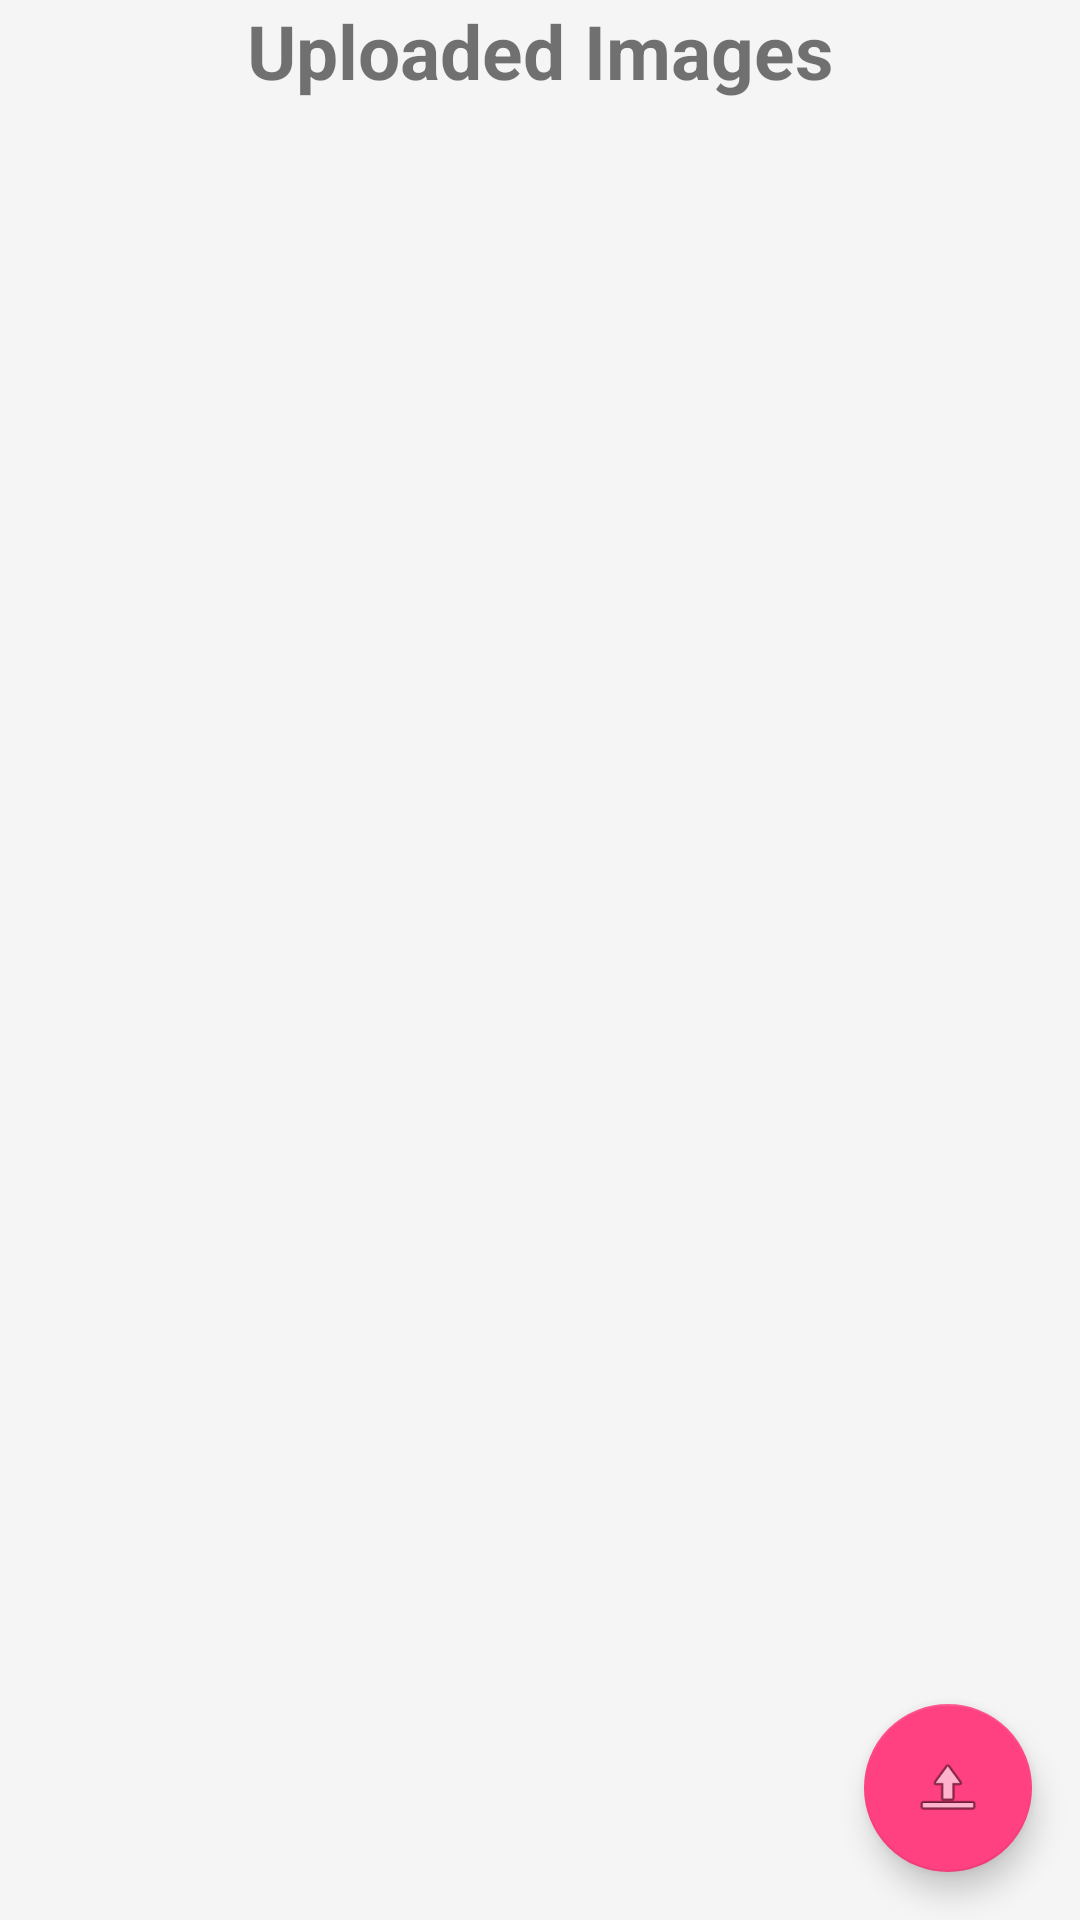

Point at icon controls on the screen. Image size 1080*1920, points as (x=x, y=y).
upload: (x=948, y=1788)
